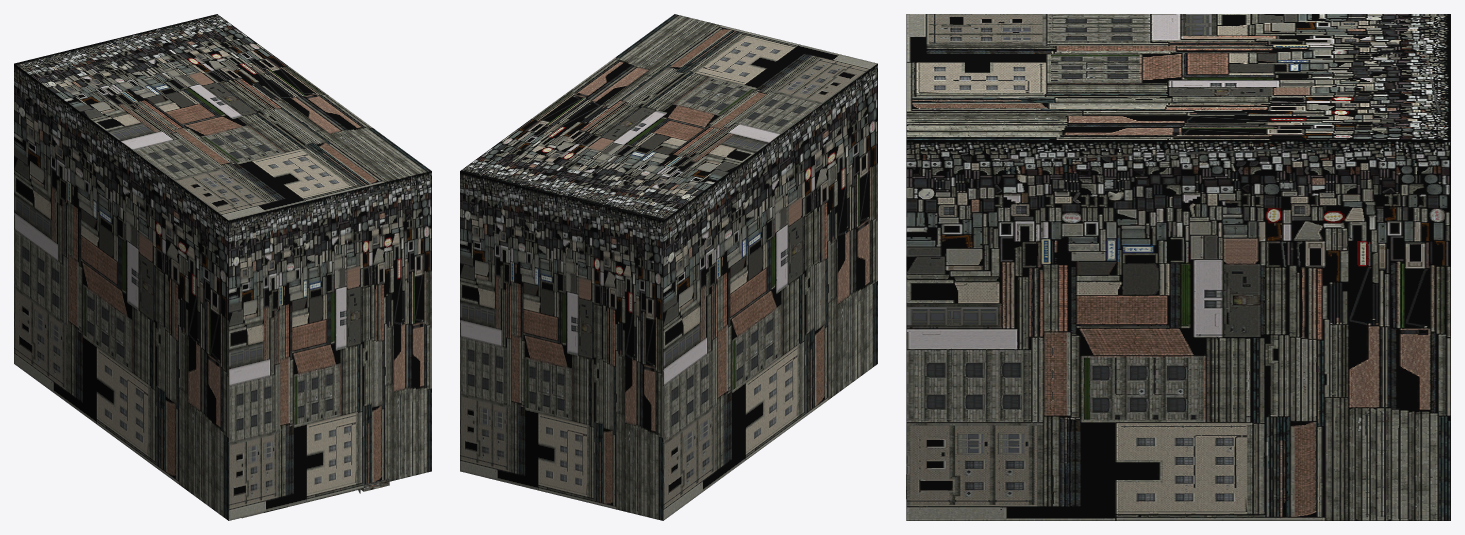
The model's file is Building_009.DAE.
The picture shows the model from 3 angles, left to right: view 1: azimuth 30°, elevation 25°; view 2: azimuth 150°, elevation 25°; view 3: azimuth 270°, elevation 25°; orthographic projection. The views are drawn at different scales.
Parts seen in each view (by area): view 1: bounds; view 2: bounds; view 3: bounds.
Part boxes in pixels (left/top/right/bottom): bounds: left=14, top=14, right=431, bottom=520; bounds: left=460, top=14, right=877, bottom=520; bounds: left=906, top=14, right=1450, bottom=520.
Size of the model in its own units: 1274 by 2332 by 1868.
